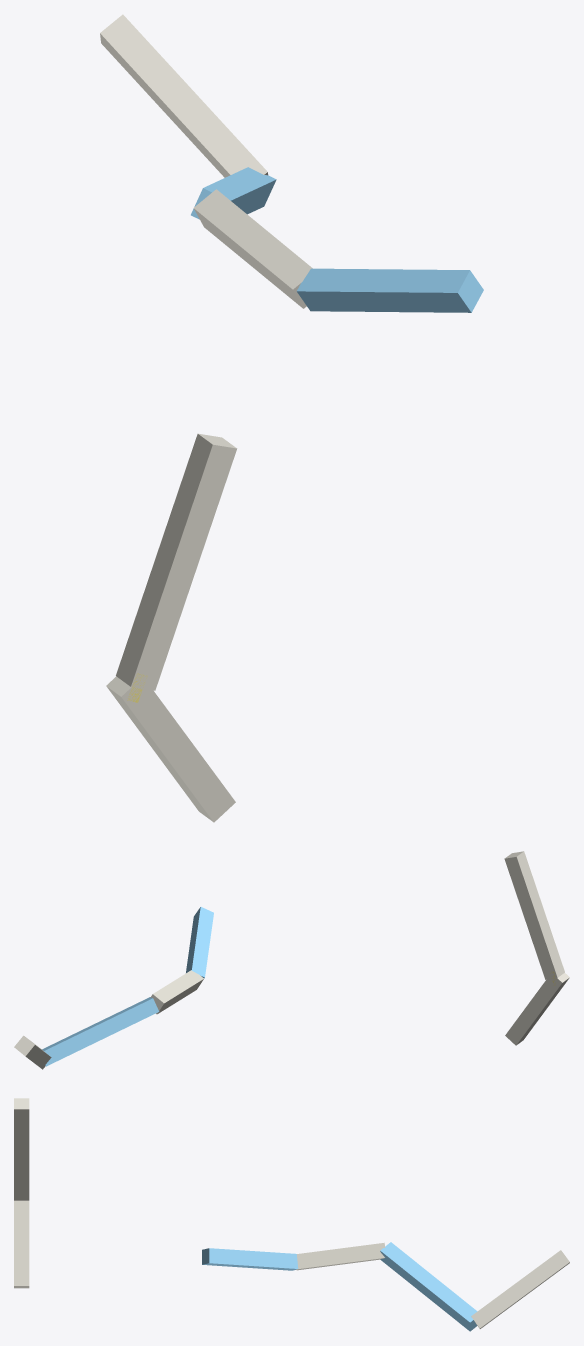
The picture shows the model from 3 angles, top to bottom: view 1: azimuth 30°, elevation 25°; view 2: azimuth 150°, elevation 25°; view 3: azimuth 270°, elevation 25°; orthographic projection. The views are drawn at different scales.
Visible parts, largest first — view 1: t30_g10_p4; view 2: t30_g10_p4; view 3: t30_g10_p4.
Boxes of the visible parts, box(x1,y1,x2,y2) form: t30_g10_p4: box(100, 14, 483, 822); t30_g10_p4: box(14, 851, 569, 1069); t30_g10_p4: box(14, 1098, 569, 1331).
Size of the model in its own units: 4.21 by 2.48 by 6.59.
